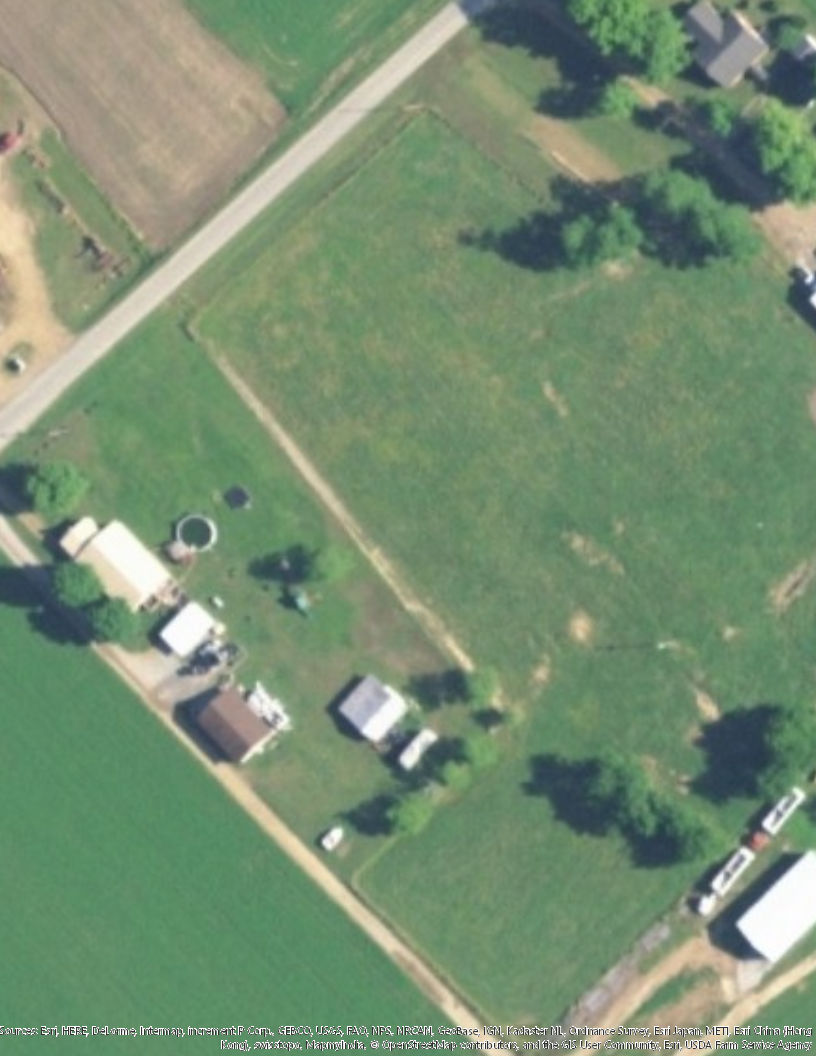cafo: (731, 847, 816, 965)
